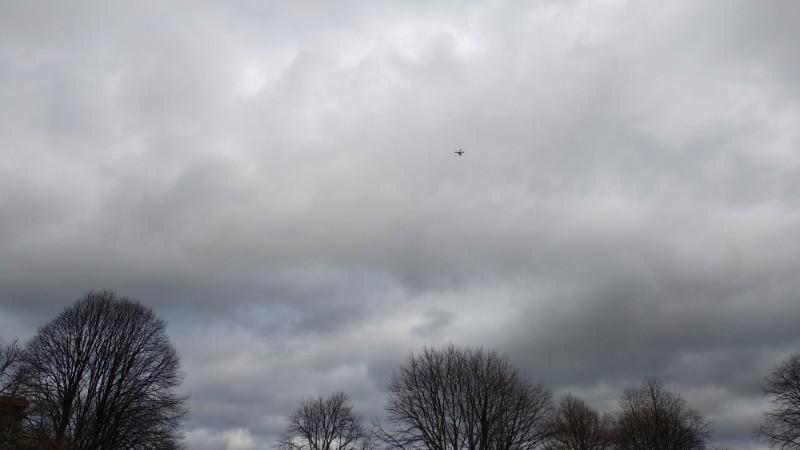drone: (453, 148, 465, 157)
